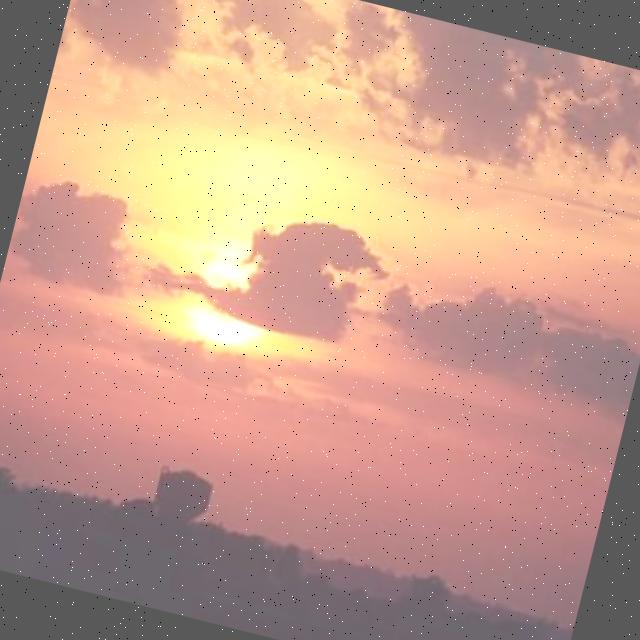Ac: (1, 1, 640, 514)
